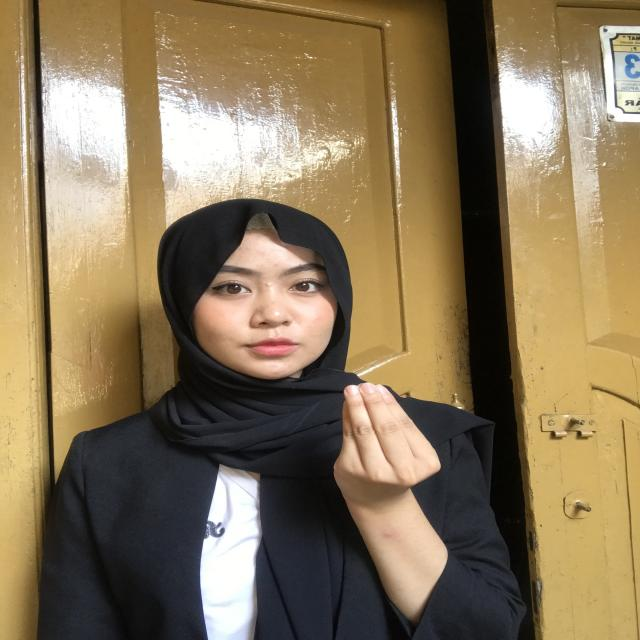kapan: (295, 369, 477, 528)
